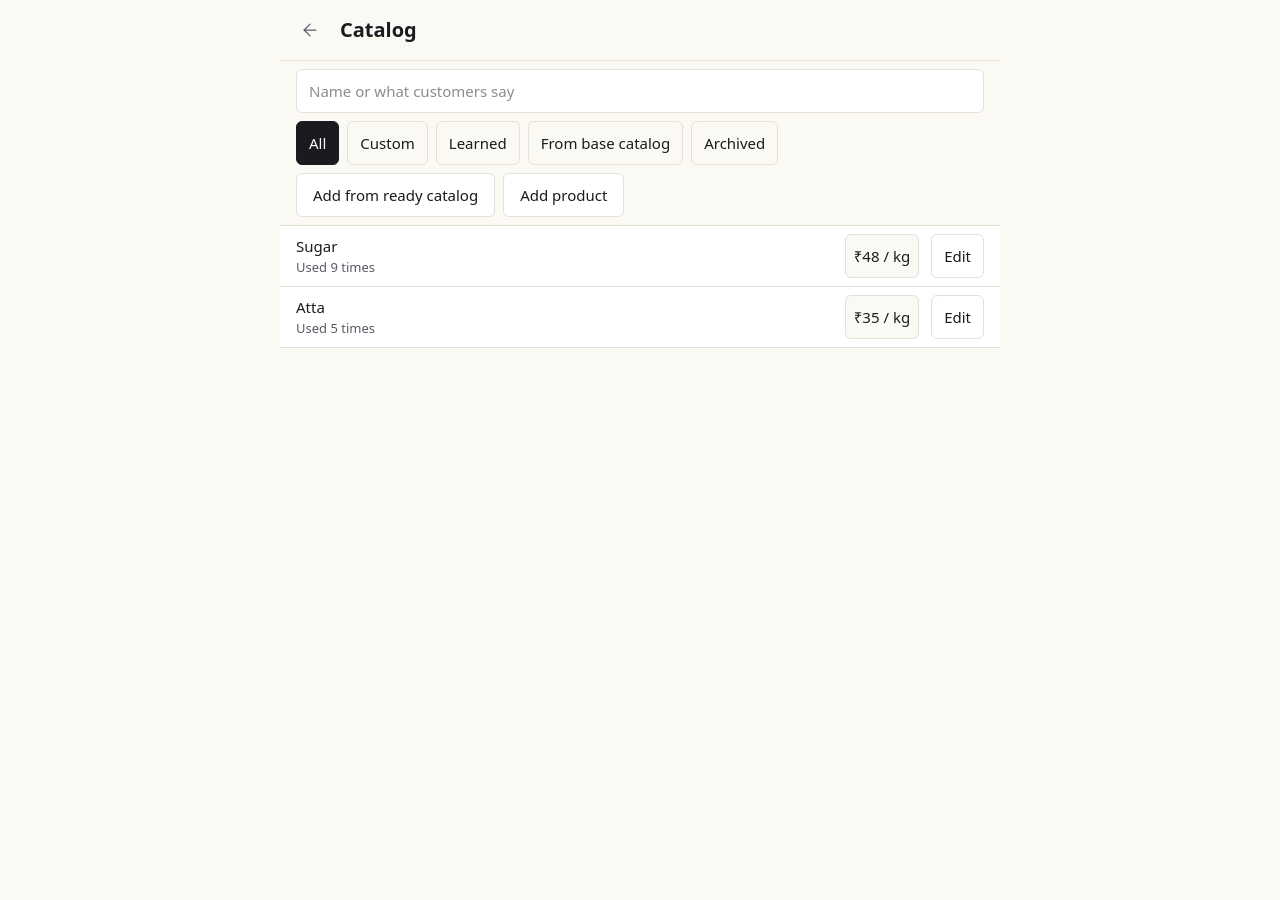
Scenario: KB-330 - Edit product: rename and other names › Save is off until something changed
Check: the list named "Products" is shown, box top-left (280, 226), bottom-right (1000, 348)
Click the button with aria-label "Edit Sugar" at (958,256), box top-left (931, 234), bottom-right (984, 278)
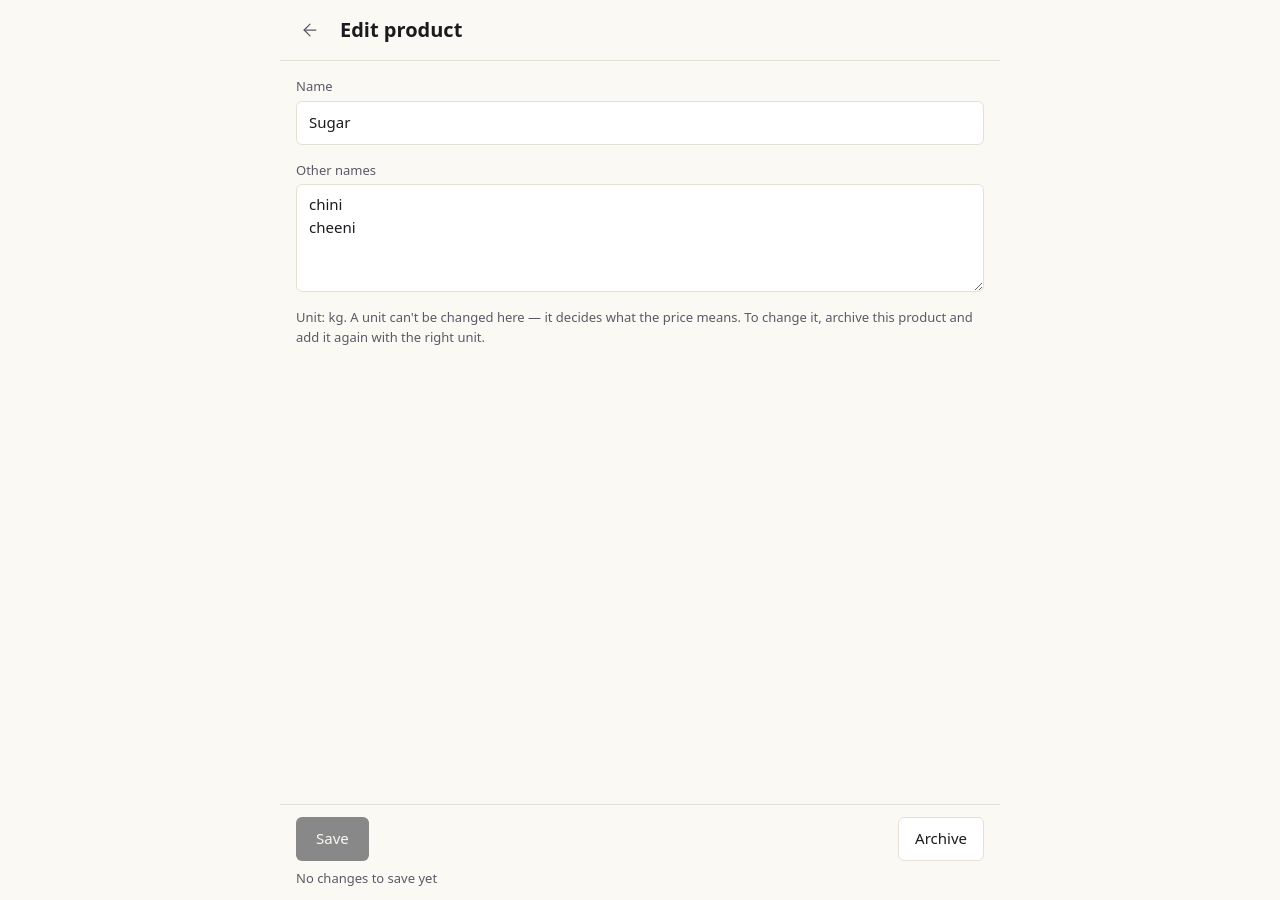
Check: the button "Save" is disabled, box top-left (296, 816), bottom-right (369, 860)
Replace the text in the field labelled "Name" with "Sugar Fine" at (640,122), box top-left (296, 100), bottom-right (984, 144)
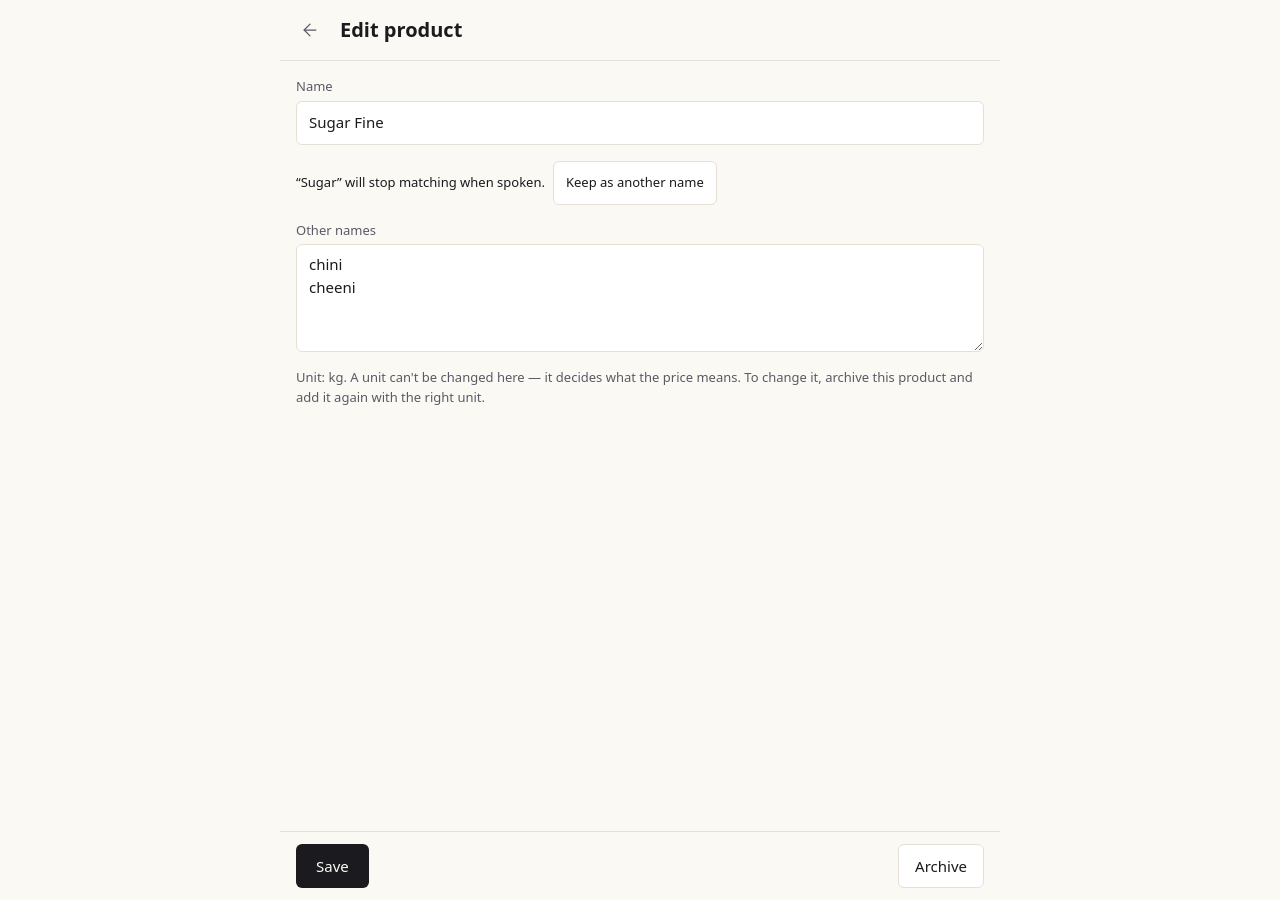
Check: the button "Save" is enabled, box top-left (296, 844), bottom-right (369, 888)
